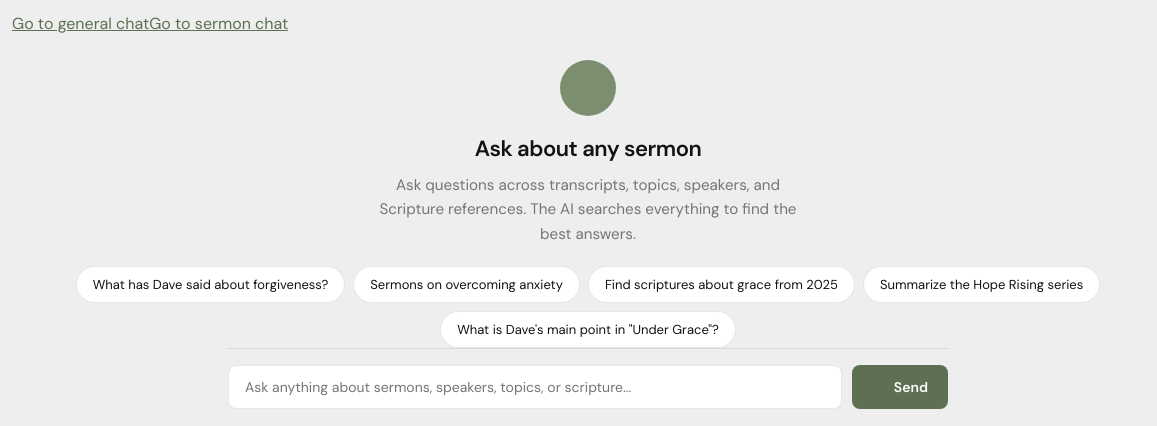
shows the server's message in the ErrorBox on failure
Type "What is grace?" into the field with placeholder "Ask anything about sermons, speakers, topics, or scripture..." at x=535, y=387, box [228,365,842,409]
Then press Enter
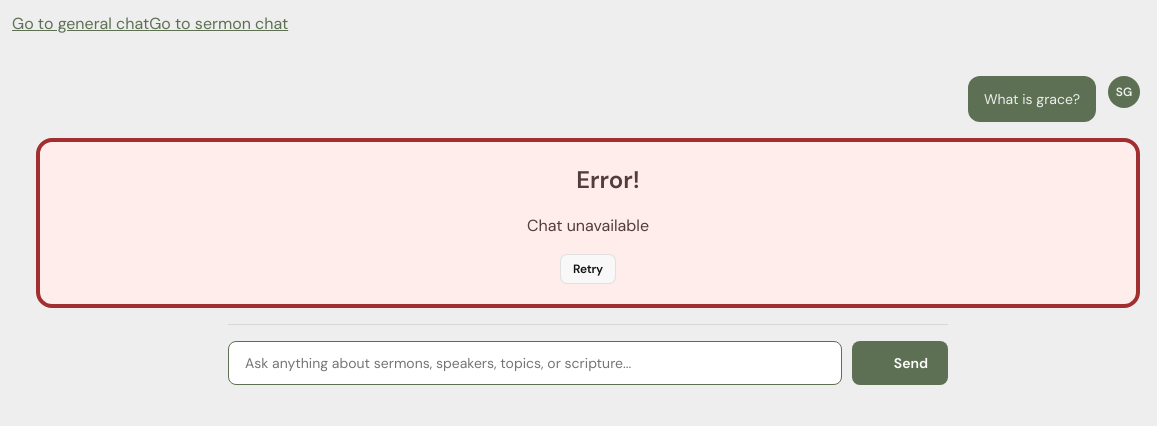
Now the message shows "Chat unavailable", box [527,215,649,236]
